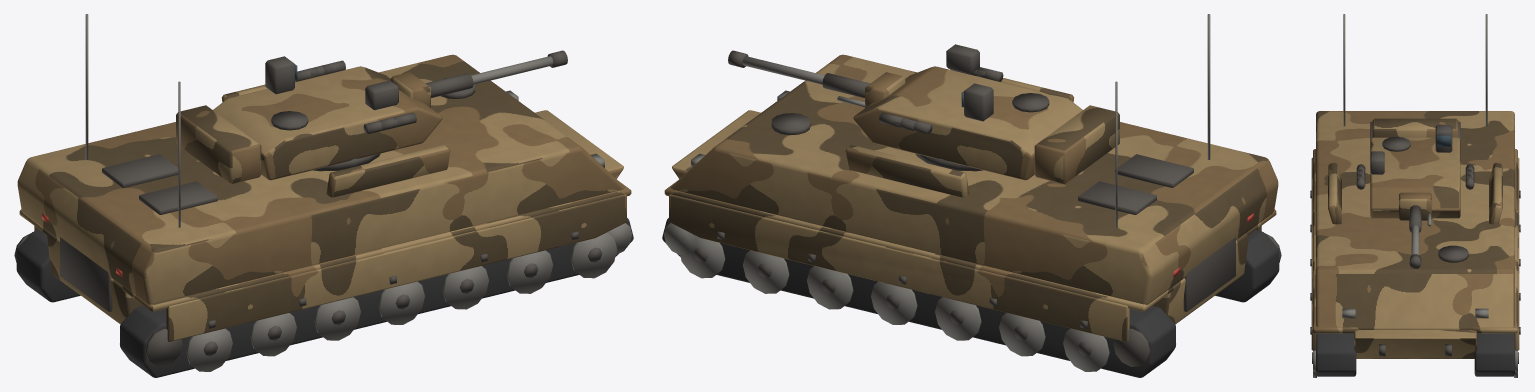
Rendered from fh_battle_e_convoy_ifv.glb.
3 views of the same model, side by side, from view 1: azimuth 30°, elevation 25°; view 2: azimuth 150°, elevation 25°; view 3: azimuth 270°, elevation 25° (orthographic). The views are drawn at different scales.
Visible parts, largest first — view 1: convoy_ifv, turret, track_r, gun, track_l; view 2: convoy_ifv, turret, track_l, gun, track_r; view 3: convoy_ifv, turret, track_l, track_r, gun.
Part boxes in pixels (<box>): convoy_ifv: <box>17,14,631,341</box>; turret: <box>176,56,450,197</box>; track_r: <box>120,218,633,377</box>; gun: <box>390,50,567,107</box>; track_l: <box>14,230,80,302</box>; convoy_ifv: <box>664,14,1278,341</box>; turret: <box>845,44,1119,197</box>; track_l: <box>662,218,1175,377</box>; gun: <box>728,50,905,107</box>; track_r: <box>1215,230,1281,302</box>; convoy_ifv: <box>1310,14,1520,358</box>; turret: <box>1328,118,1502,224</box>; track_l: <box>1474,333,1518,377</box>; track_r: <box>1312,333,1356,377</box>; gun: <box>1399,192,1431,268</box>.
Size of the model in its own units: 0.948 by 0.497 by 0.444.
6 materials, 1 textured.
